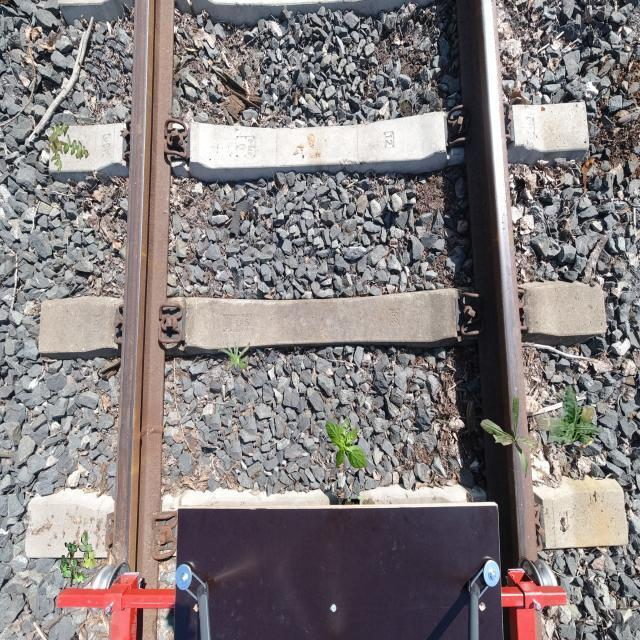Plant: (480, 394, 544, 478), (538, 384, 602, 446), (47, 121, 89, 175), (326, 417, 368, 470), (60, 532, 98, 587), (218, 338, 250, 372)
